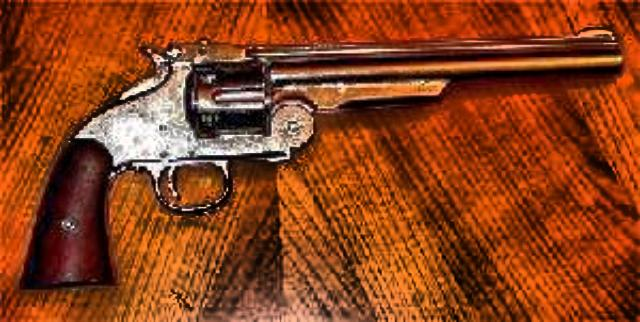pistol: (11, 24, 623, 288)
